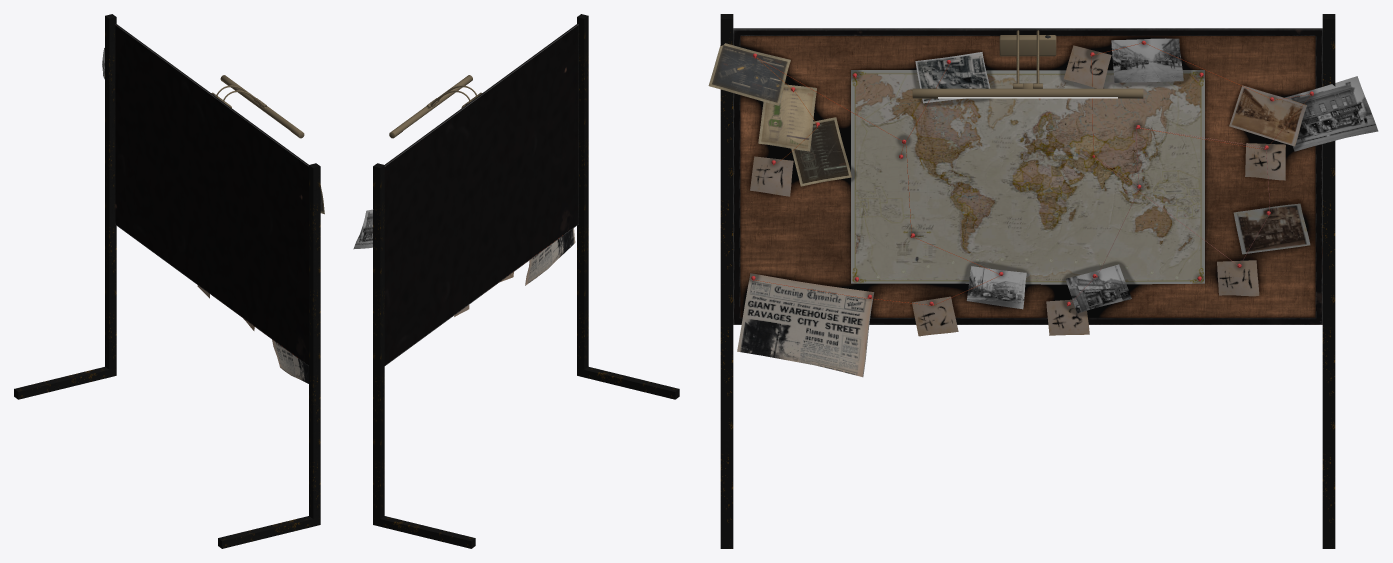
The model's file is board.glb.
3 views of the same model, side by side, from view 1: azimuth 30°, elevation 25°; view 2: azimuth 150°, elevation 25°; view 3: azimuth 270°, elevation 25° (orthographic). The views are drawn at different scales.
Parts seen in each view (by area): view 1: Board, Post, Post.001, Foot.001, Foot, Lamp; view 2: Board, Post.001, Post, Foot, Foot.001, Lamp; view 3: Board, Post, Post.001, Lamp.
Part boxes in pixels (<box>): Board: <box>102,24,324,383</box>; Post: <box>309,163,320,526</box>; Post.001: <box>105,14,116,377</box>; Foot.001: <box>14,367,109,399</box>; Foot: <box>218,516,313,548</box>; Lamp: <box>211,75,304,138</box>; Board: <box>353,24,578,365</box>; Post.001: <box>373,163,384,526</box>; Post: <box>577,14,588,377</box>; Foot: <box>584,366,679,399</box>; Foot.001: <box>380,516,475,548</box>; Lamp: <box>389,75,481,138</box>; Board: <box>708,28,1378,377</box>; Post: <box>720,14,733,548</box>; Post.001: <box>1322,14,1335,548</box>; Lamp: <box>912,30,1143,98</box>.
Size of the model in its own units: 0.8989 by 2.09 by 2.4.
Materials: 5 (2 with a texture image).
